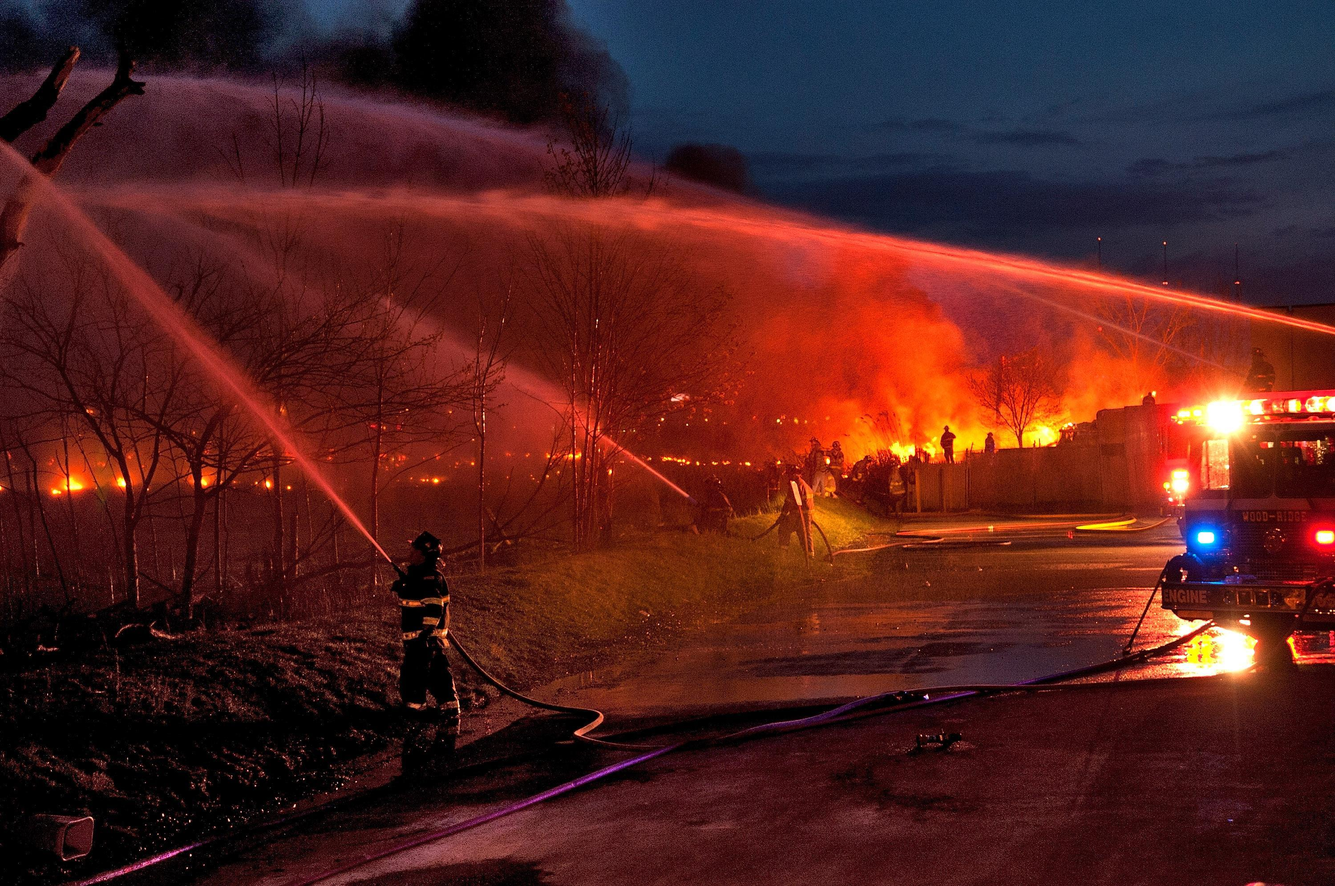fire: (656, 451, 755, 471), (45, 469, 98, 502), (884, 435, 942, 461), (1027, 421, 1067, 451), (947, 429, 991, 453), (413, 475, 445, 487), (554, 449, 586, 461), (116, 472, 132, 491), (196, 474, 212, 489), (262, 475, 271, 488), (606, 466, 615, 477)
